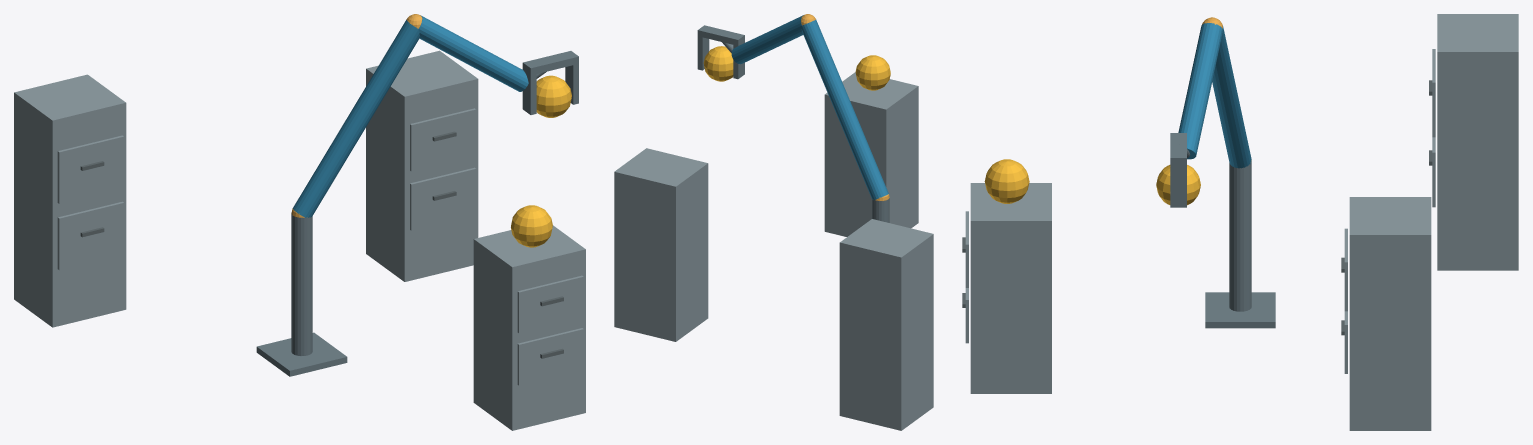
The picture shows the model from 3 angles, left to right: view 1: azimuth 30°, elevation 25°; view 2: azimuth 150°, elevation 25°; view 3: azimuth 270°, elevation 25°; orthographic projection. The views are drawn at different scales.
Parts seen in each view (by area): view 1: cabinet_3 body, cabinet_2 body, cabinet_1 body, moving link 1, cabinet_3 drawer front, cabinet_3 drawer front.001, cabinet_2 drawer front.001, cabinet_2 drawer front, fixed post, cabinet_1 drawer front, cabinet_1 drawer front.001, moving link 2 (+4 smaller); view 2: cabinet_3 body, cabinet_2 body, cabinet_1 body, moving link 1, moving link 2, released ball_1, ball ball_2, gripper bridge, fixed post, gripper finger 1; view 3: cabinet_3 body, cabinet_2 body, cabinet_1 body, fixed post, moving link 2, moving link 1, pedestal, released ball_1, ball ball_2, gripper finger 1, gripper bridge.
Part boxes in pixels (x1,y1,x2,y2): cabinet_3 body: (14,74,126,327); cabinet_2 body: (366,50,478,281); cabinet_1 body: (473,225,585,430); moving link 1: (293,20,419,217); cabinet_3 drawer front: (57,201,124,270); cabinet_3 drawer front.001: (57,135,124,203); cabinet_2 drawer front.001: (410,108,476,171); cabinet_2 drawer front: (410,167,476,230); fixed post: (291,213,312,355); cabinet_1 drawer front: (517,328,583,385); cabinet_1 drawer front.001: (517,275,583,333); moving link 2: (419,15,528,91); cabinet_3 body: (839,219,933,430); cabinet_2 body: (614,148,708,341); cabinet_1 body: (824,72,918,236); moving link 1: (801,19,888,200); moving link 2: (731,15,803,64); released ball_1: (855,55,890,90); ball ball_2: (703,46,733,81); gripper bridge: (697,25,744,45); fixed post: (872,198,889,222); gripper finger 1: (697,36,709,70); cabinet_3 body: (1437,14,1518,270); cabinet_2 body: (1349,197,1431,430); cabinet_1 body: (970,183,1051,393); fixed post: (1229,161,1251,311); moving link 2: (1178,23,1222,159); moving link 1: (1212,26,1251,168); pedestal: (1205,292,1275,328); released ball_1: (984,159,1029,203); ball ball_2: (1156,165,1200,205); gripper finger 1: (1170,165,1186,207); gripper bridge: (1170,133,1186,165).
Bounding box in the file's own units: 1.74 × 1.36 × 1.98.
